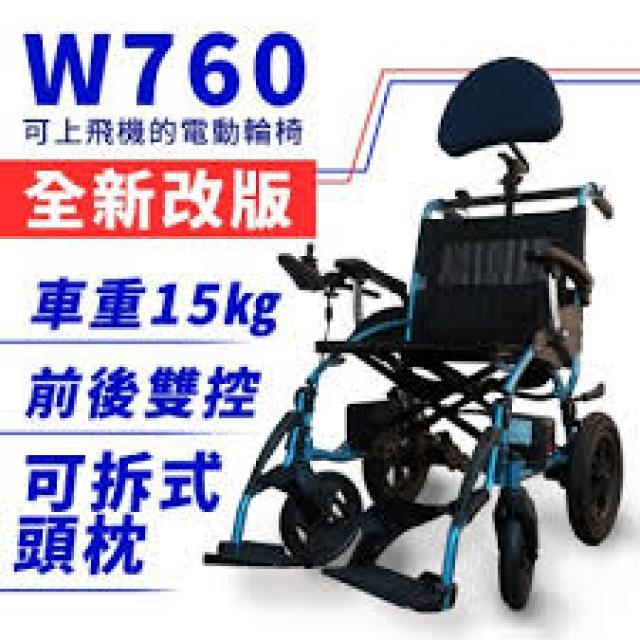wheelchair: (190, 51, 626, 623)
